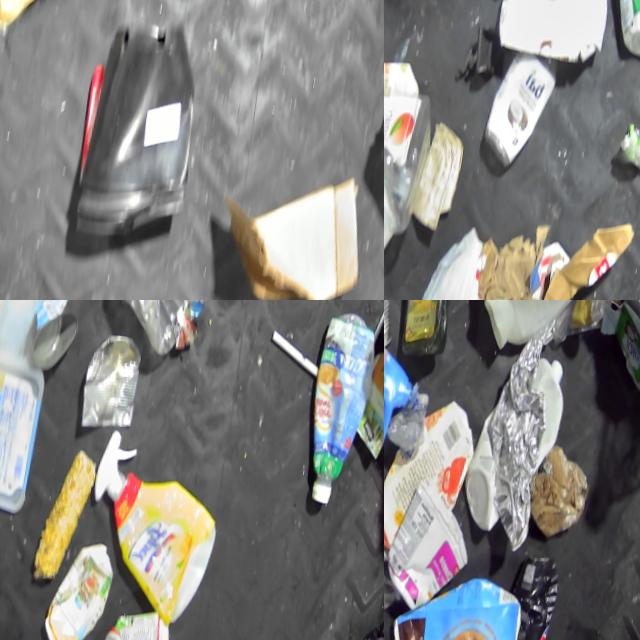can: (77, 331, 145, 435), (26, 300, 82, 377), (353, 351, 384, 463), (0, 0, 60, 45)
milk_jug: (455, 300, 640, 373), (384, 217, 486, 300), (493, 0, 613, 65), (0, 300, 74, 358)
non_white_jug: (70, 9, 209, 243), (384, 564, 532, 640), (384, 300, 424, 530), (384, 80, 436, 237), (384, 49, 422, 114)
plastic_bottle: (104, 300, 258, 365), (384, 567, 404, 619)
